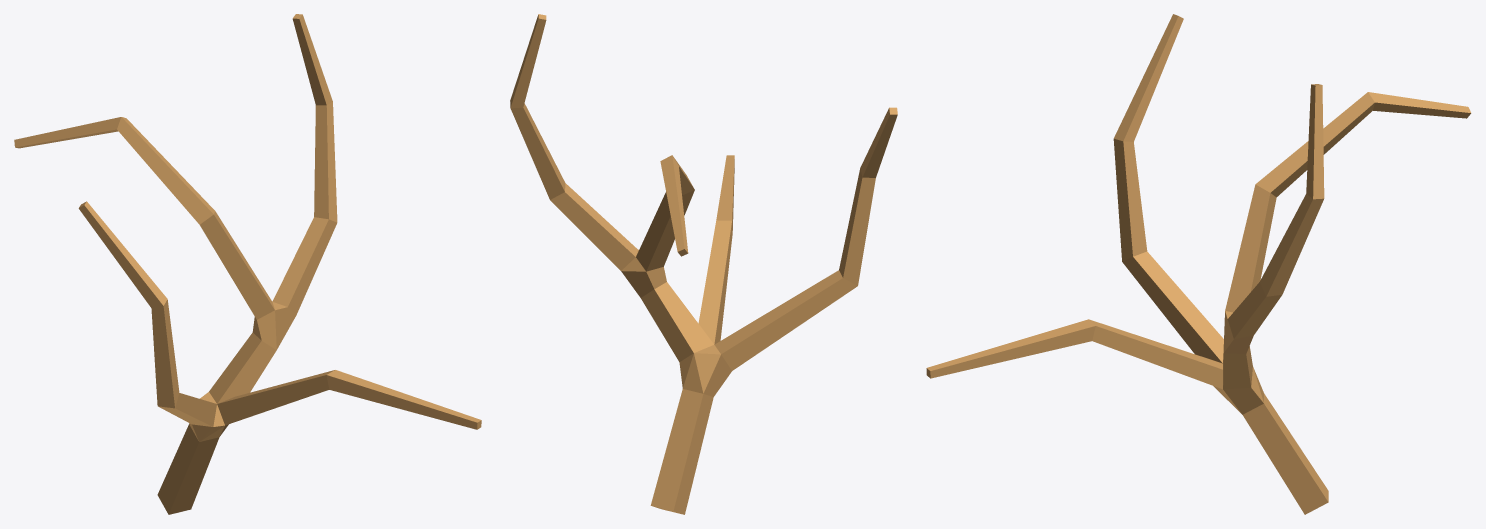
File: Thorns_10.fbx
3 views of the same model, side by side, from view 1: azimuth 30°, elevation 25°; view 2: azimuth 150°, elevation 25°; view 3: azimuth 270°, elevation 25° (orthographic). The views are drawn at different scales.
Visible parts, largest first — view 1: Thorns_10; view 2: Thorns_10; view 3: Thorns_10.
Part boxes in pixels (x1,y1,x2,y2): Thorns_10: [14, 14, 481, 514]; Thorns_10: [510, 14, 897, 514]; Thorns_10: [926, 14, 1471, 514].
Bounding box in the file's own units: 43.95 × 61.13 × 61.68.
